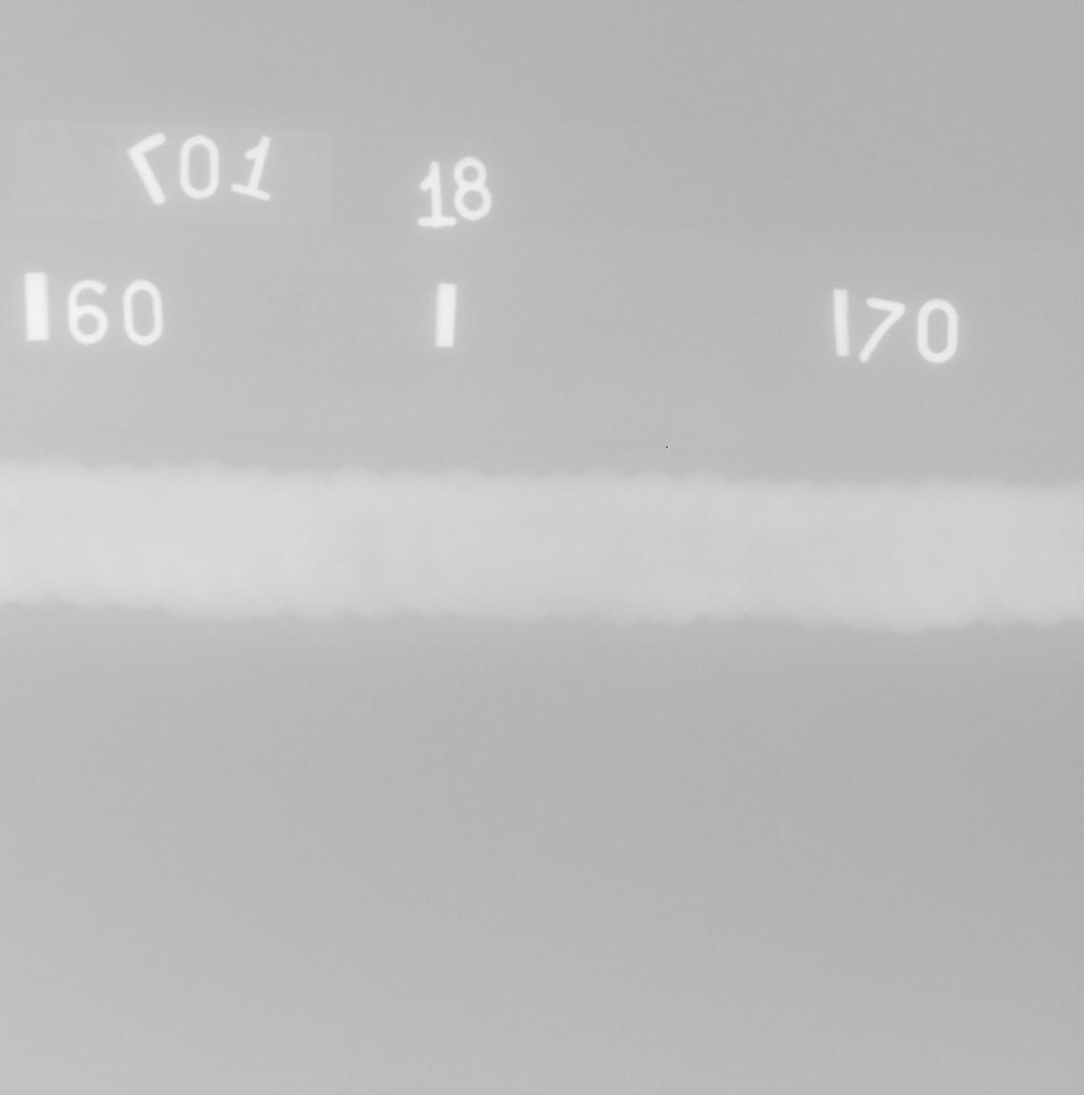Pore/Porosity: (221, 594, 227, 599), (354, 526, 361, 529)
